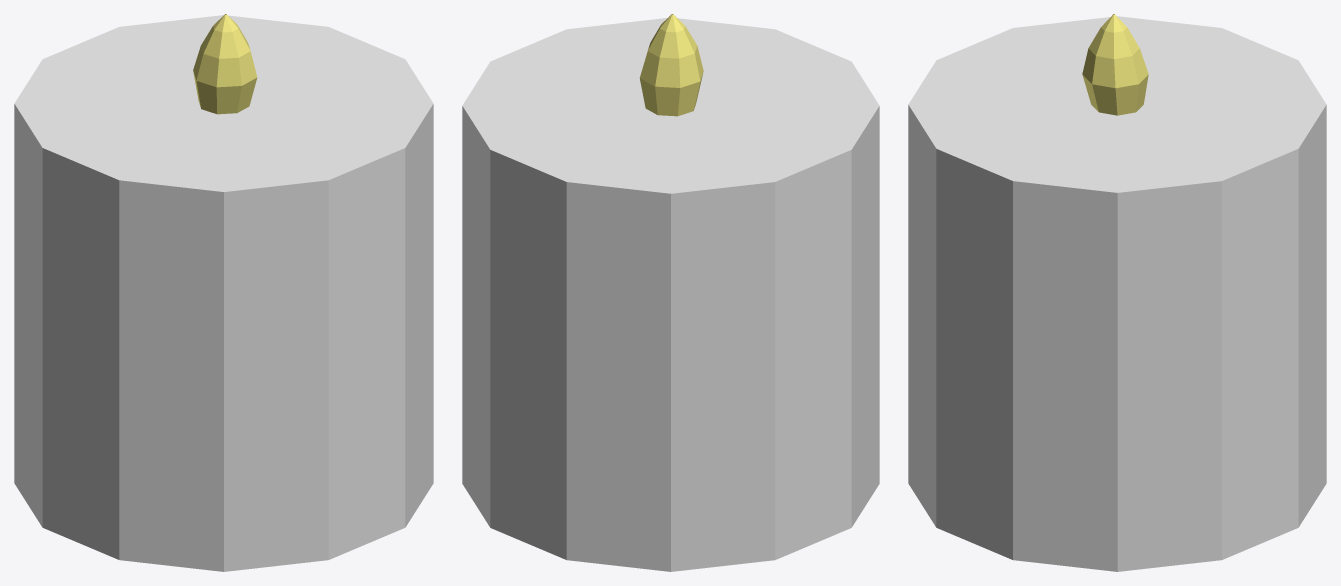
File: Candle.fbx
The picture shows the model from 3 angles, left to right: view 1: azimuth 30°, elevation 25°; view 2: azimuth 150°, elevation 25°; view 3: azimuth 270°, elevation 25°; orthographic projection.
Parts seen in each view (by area): view 1: Candle; view 2: Candle; view 3: Candle.
Part boxes in pixels (box(x1,y1,x2,y2)): Candle: box(14, 14, 433, 571); Candle: box(462, 14, 879, 571); Candle: box(908, 14, 1326, 571).
Size of the model in its own units: 0.5131 by 0.6353 by 0.5131.
